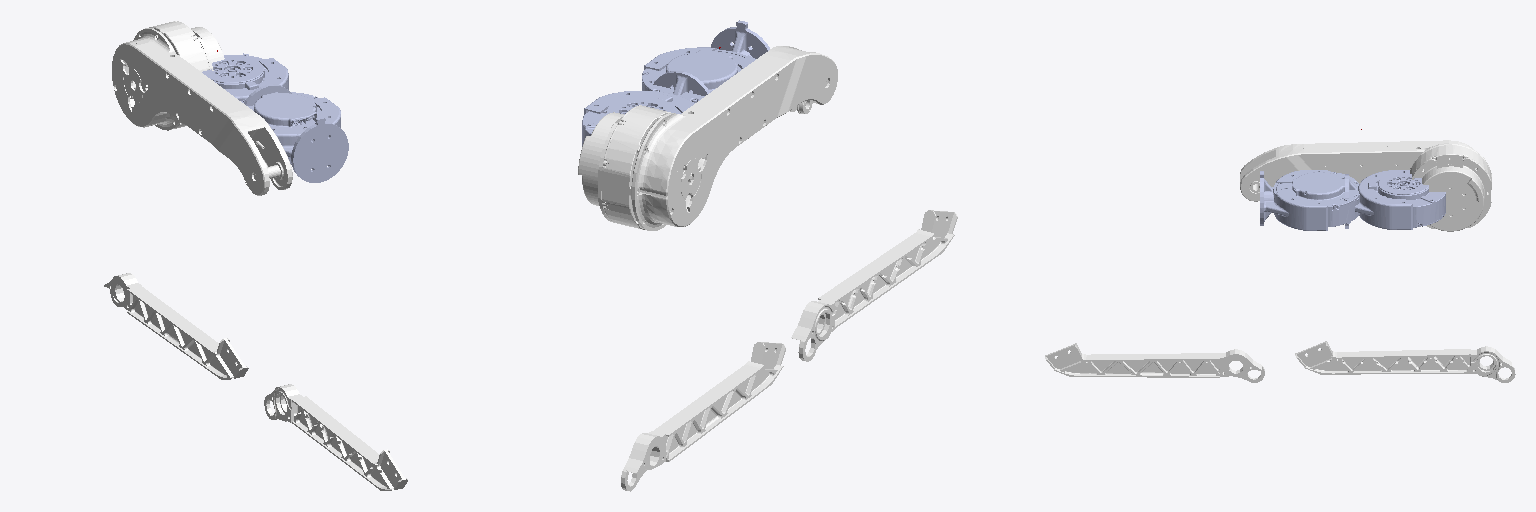
robot.urdf — duow:
<?xml version="1.0" ?>
<!-- This URDF was automatically created by SolidWorks to URDF Exporter! Originally created by Stephen Brawner (brawner@gmail.com) 
     Commit Version: 1.6.0-4-g7f85cfe  Build Version: 1.6.7995.38578
     For more information, please see http://wiki.ros.org/sw_urdf_exporter -->

<robot name="duow">

  <material name="black">
    <color rgba="0.0 0.0 0.0 1.0"/>
  </material>
  <material name="blue">
    <color rgba="0.0 0.0 0.8 1.0"/>
  </material>
  <material name="green">
    <color rgba="0.0 0.8 0.0 1.0"/>
  </material>
  <material name="grey">
    <color rgba="0.2 0.2 0.2 1.0"/>
  </material>
  <material name="silver">
    <color rgba="0.9137254901960784 0.9137254901960784 0.8470588235294118 1.0"/>
  </material>
  <material name="orange">
    <color rgba="1.0 0.4235294117647059 0.0392156862745098 1.0"/>
  </material>
  <material name="brown">
    <color rgba="0.8705882352941177 0.8117647058823529 0.7647058823529411 1.0"/>
  </material>
  <material name="red">
    <color rgba="0.8 0.0 0.0 1.0"/>
  </material>
  <material name="white">
    <color rgba="1.0 1.0 1.0 1.0"/>
  </material>

  <link name="base_link">
    <inertial>
      <origin xyz="0 0 0" rpy="0 0 0" />
      <mass value="0.0001" />
      <inertia ixx="0.0001" ixy="0" ixz="0" iyy="0.0001" iyz="0" izz="0.0001" />
    </inertial>
    <visual>
      <origin xyz="0 0 0" rpy="0 0 0" />
      <geometry>
        <box size="0.001 0.001 0.001"/>
      </geometry>
    </visual>
  </link>

  <link name="imu_link">
    <inertial>
      <origin xyz="0.0188 0 0.0095" rpy="0 0 0" />
      <mass value="0.123" />
      <inertia ixx="0.0001" ixy="0" ixz="0" iyy="0.0001" iyz="0" izz="0.0001" />
    </inertial>
    <visual>
      <origin rpy="0 0 0" xyz="0 0 0"/>
      <geometry>
        <box size="0.001 0.001 0.001"/>
      </geometry>
      <material name="red"/>
    </visual>
    <collision>
      <origin rpy="0 0 0" xyz="0 0 0"/>
      <geometry>
        <box size=".001 .001 .001"/>
      </geometry>
    </collision>
  </link>

  <joint name="imu_joint" type="fixed">
    <origin xyz="0.01153 0 0.068" rpy="0 0 0" />
    <parent link="base_link" />
    <child link="imu_link" />
    <axis xyz="0 0 0" />
  </joint>

  <link name="F_base_link">
    <inertial>
      <origin
        xyz="-0.0031 -0.0 0.0198"
        rpy="0 0 0" />
      <mass
        value="6.0608" />
      <inertia
        ixx="0.028"
        ixy="-0.0006"
        ixz="0.0013"
        iyy="0.0805"
        iyz="0.0001"
        izz="0.0866" />
    </inertial>
    <visual>
      <origin
        xyz="0 0 0"
        rpy="0 0 0" />
      <geometry>
        <mesh filename="../meshes/F_base_link.STL" />
      </geometry>
      <material name="grey"/>
    </visual>
    <collision>
      <origin rpy="0 0 0" xyz="0 0 0.022"/>
      <geometry>
        <box size="0.3505 0.198 0.152"/>
      </geometry>
    </collision>
  </link>

  <joint name="F_base_joint" type="fixed">
    <origin xyz="0 0 0" rpy="0 0 0" />
    <parent link="base_link" />
    <child link="F_base_link" />
    <axis xyz="0 0 0" />
  </joint>

  <link name="FL_hip">
    <inertial>
      <origin
        xyz="0.0315 0 -0.0546"
        rpy="0 0 0" />
      <mass
        value="0.755" />
      <inertia
        ixx="0.0009"
        ixy="0"
        ixz="0"
        iyy="0.0008"
        iyz="0"
        izz="0.0006" />
    </inertial>
    <visual>
      <origin
        xyz="0 0 0"
        rpy="0 0 0" />
      <geometry>
        <mesh
          filename="../meshes/FL_hip.STL" />
      </geometry>
      <material
        name="">
        <color
          rgba="0.79216 0.81961 0.93333 1" />
      </material>
    </visual>
  </link>

  <joint name="FL_hip_joint" type="revolute">
    <origin xyz="0.05525 0.048 0" rpy="1.5708 0 1.5708" />
    <parent link="F_base_link" />
    <child link="FL_hip" />
    <axis xyz="0 0 1" />
    <limit
      lower="-0.61"
      upper="0.36"
      effort="36"
      velocity="42" />
  </joint>

  <link name="FL_thigh">
    <inertial>
      <origin
        xyz="0.1906 0.0002 0.021"
        rpy="0 0 0" />
      <mass
        value="0.9375" />
      <inertia
        ixx="0.0007"
        ixy="0"
        ixz="0"
        iyy="0.0063"
        iyz="0"
        izz="0.0066" />
    </inertial>
    <visual>
      <origin
        xyz="0 0 0"
        rpy="0 0 0" />
      <geometry>
        <mesh
          filename="../meshes/FL_thigh.STL" />
      </geometry>
      <material
        name="">
        <color
          rgba="1 1 1 1" />
      </material>
    </visual>
    <!-- <collision>
      <origin rpy="0 0 0" xyz="0.08 0 0.026"/>
      <geometry>
        <box size="0.236 0.070 0.020"/>
      </geometry>
    </collision>
    <collision>
      <origin rpy="0 0 0" xyz="0.23 0 0.0175"/>
      <geometry>
        <cylinder length="0.051" radius="0.047"/>
      </geometry>
    </collision> -->
  </link>

  <joint name="FL_thigh_joint" type="revolute">
    <origin xyz="0.0525 0 -0.05525" rpy="-1.5708 0 -1.5708" />
    <parent link="FL_hip" />
    <child link="FL_thigh" />
    <axis xyz="0 0 1" />
    <limit
      lower="-3.14"
      upper="3.14"
      effort="36"
      velocity="42" />
  </joint>

  <link name="FL_calf">
    <inertial>
      <origin
        xyz="0.1793 0 0.0108"
        rpy="0 0 0" />
      <mass
        value="0.6055" />
      <inertia
        ixx="0.0003"
        ixy="0"
        ixz="0.0001"
        iyy="0.0038"
        iyz="0"
        izz="0.0039" />
    </inertial>
    <visual>
      <origin
        xyz="0 0 0"
        rpy="0 0 0" />
      <geometry>
        <mesh
          filename="../meshes/FL_calf.STL" />
      </geometry>
      <material
        name="">
        <color
          rgba="1 1 1 1" />
      </material>
    </visual>
    <collision>
      <origin rpy="0 0 0" xyz="0.075 0 0.015"/>
      <geometry>
        <box size="0.218 0.060 0.015"/>
      </geometry>
    </collision>
    <collision>
      <origin rpy="0 0 0" xyz="0.218 0 0.0095"/>
      <geometry>
        <cylinder length="0.0435" radius="0.042"/>
      </geometry>
    </collision>
  </link>

  <joint name="FL_calf_joint" type="revolute">
    <origin xyz="0.23 0 0.0415" rpy="0 0 0" />
    <parent link="FL_thigh" />
    <child link="FL_calf" />
    <axis xyz="0 0 1" />
    <limit
      lower="-2.79"
      upper="2.79"
      effort="36"
      velocity="42" />
  </joint>

  <link name="FL_foot">
    <inertial>
      <origin
        xyz="0 0 0.0227"
        rpy="0 0 0" />
      <mass
        value="0.5134" />
      <inertia
        ixx="0.0013"
        ixy="0"
        ixz="0"
        iyy="0.0013"
        iyz="0"
        izz="0.0024" />
    </inertial>
    <visual>
      <origin
        xyz="0 0 0"
        rpy="0 0 0" />
      <geometry>
        <mesh
          filename="../meshes/FL_foot.STL" />
      </geometry>
      <material
        name="">
        <color
          rgba="0.86667 0.9098 1 1" />
      </material>
    </visual>
    <collision>
      <origin rpy="0 0 0" xyz="0 0 0.0235"/>
      <geometry>
        <cylinder length="0.035" radius="0.1"/>
      </geometry>
    </collision>
  </link>

  <joint name="FL_foot_joint" type="revolute">
    <origin xyz="0.22 0 0.0315" rpy="0 0 0" />
    <parent link="FL_calf" />
    <child link="FL_foot" />
    <axis xyz="0 0 1" />
    <limit
      lower="-1000000.0"
      upper="1000000.0"
      effort="17"
      velocity="42" />
  </joint>

  <transmission name="FL_hip_tran">
    <type>transmission_interface/SimpleTransmission</type>
    <joint name="FL_hip_joint">
      <hardwareInterface>hardware_interface/EffortJointInterface</hardwareInterface>
    </joint>
    <actuator name="FL_hip_motor">
      <hardwareInterface>hardware_interface/EffortJointInterface</hardwareInterface>
      <mechanicalReduction>1</mechanicalReduction>
    </actuator>
  </transmission>
  <transmission name="FL_thigh_tran">
    <type>transmission_interface/SimpleTransmission</type>
    <joint name="FL_thigh_joint">
      <hardwareInterface>hardware_interface/EffortJointInterface</hardwareInterface>
    </joint>
    <actuator name="FL_thigh_motor">
      <hardwareInterface>hardware_interface/EffortJointInterface</hardwareInterface>
      <mechanicalReduction>1</mechanicalReduction>
    </actuator>
  </transmission>
  <transmission name="FL_calf_tran">
    <type>transmission_interface/SimpleTransmission</type>
    <joint name="FL_calf_joint">
      <hardwareInterface>hardware_interface/EffortJointInterface</hardwareInterface>
    </joint>
    <actuator name="FL_calf_motor">
      <hardwareInterface>hardware_interface/EffortJointInterface</hardwareInterface>
      <mechanicalReduction>1</mechanicalReduction>
    </actuator>
  </transmission>
  <transmission name="FL_foot_tran">
    <type>transmission_interface/SimpleTransmission</type>
    <joint name="FL_foot_joint">
      <hardwareInterface>hardware_interface/EffortJointInterface</hardwareInterface>
    </joint>
    <actuator name="FL_foot_motor">
      <hardwareInterface>hardware_interface/EffortJointInterface</hardwareInterface>
      <mechanicalReduction>1</mechanicalReduction>
    </actuator>
  </transmission>

  <link name="FR_hip">
    <inertial>
      <origin
        xyz="-0.0315 0 -0.0546"
        rpy="0 0 0" />
      <mass
        value="0.755" />
      <inertia
        ixx="0.0009"
        ixy="0"
        ixz="0"
        iyy="0.0008"
        iyz="0"
        izz="0.0006" />
    </inertial>
    <visual>
      <origin
        xyz="0 0 0"
        rpy="0 0 0" />
      <geometry>
        <mesh
          filename="../meshes/FR_hip.STL" />
      </geometry>
      <material
        name="">
        <color
          rgba="0.79216 0.81961 0.93333 1" />
      </material>
    </visual>
  </link>

  <joint name="FR_hip_joint" type="revolute">
    <origin xyz="0.05525 -0.048 0" rpy="1.5708 0 1.5708" />
    <parent link="F_base_link" />
    <child link="FR_hip" />
    <axis xyz="0 0 1" />
    <limit
      lower="-0.36"
      upper="0.61"
      effort="36"
      velocity="42" />
  </joint>

  <link name="FR_thigh">
    <inertial>
      <origin
        xyz="0.1906 0.0001 -0.021"
        rpy="0 0 0" />
      <mass
        value="0.9375" />
      <inertia
        ixx="0.0007"
        ixy="0"
        ixz="0"
        iyy="0.0063"
        iyz="0"
        izz="0.0066" />
    </inertial>
    <visual>
      <origin
        xyz="0 0 0"
        rpy="0 0 0" />
      <geometry>
        <mesh
          filename="../meshes/FR_thigh.STL" />
      </geometry>
      <material
        name="">
        <color
          rgba="0.86667 0.9098 1 1" />
      </material>
    </visual>
    <!-- <collision>
      <origin rpy="0 0 0" xyz="0.08 0 -0.026"/>
      <geometry>
        <box size="0.236 0.070 0.020"/>
      </geometry>
    </collision>
    <collision>
      <origin rpy="0 0 0" xyz="0.23 0 -0.0175"/>
      <geometry>
        <cylinder length="0.051" radius="0.047"/>
      </geometry>
    </collision> -->
  </link>

  <joint name="FR_thigh_joint" type="revolute">
    <origin xyz="-0.0525 0 -0.05525" rpy="-1.5708 0 -1.5708" />
    <parent link="FR_hip" />
    <child link="FR_thigh" />
    <axis xyz="0 0 1" />
    <limit
      lower="-3.14"
      upper="3.14"
      effort="36"
      velocity="42" />
  </joint>

  <link name="FR_calf">
    <inertial>
      <origin
        xyz="0.1793 0 -0.0108"
        rpy="0 0 0" />
      <mass
        value="0.6055" />
      <inertia
        ixx="0.0003"
        ixy="0"
        ixz="-0.0001"
        iyy="0.0038"
        iyz="0"
        izz="0.0039" />
    </inertial>
    <visual>
      <origin
        xyz="0 0 0"
        rpy="0 0 0" />
      <geometry>
        <mesh
          filename="../meshes/FR_calf.STL" />
      </geometry>
      <material
        name="">
        <color
          rgba="1 1 1 1" />
      </material>
    </visual>
    <collision>
      <origin rpy="0 0 0" xyz="0.075 0 -0.015"/>
      <geometry>
        <box size="0.218 0.060 0.015"/>
      </geometry>
    </collision>
    <collision>
      <origin rpy="0 0 0" xyz="0.218 0 -0.0095"/>
      <geometry>
        <cylinder length="0.0435" radius="0.042"/>
      </geometry>
    </collision>
  </link>

  <joint name="FR_calf_joint" type="revolute">
    <origin xyz="0.23 0 -0.0415" rpy="0 0 0" />
    <parent link="FR_thigh" />
    <child link="FR_calf" />
    <axis xyz="0 0 1" />
    <limit
      lower="-2.79"
      upper="2.79"
      effort="36"
      velocity="42" />
  </joint>

  <link name="FR_foot">
    <inertial>
      <origin
        xyz="0 0 -0.0227"
        rpy="0 0 0" />
      <mass
        value="0.5134" />
      <inertia
        ixx="0.0013"
        ixy="0"
        ixz="0"
        iyy="0.0013"
        iyz="0"
        izz="0.0024" />
    </inertial>
    <visual>
      <origin
        xyz="0 0 0"
        rpy="0 0 0" />
      <geometry>
        <mesh
          filename="../meshes/FR_foot.STL" />
      </geometry>
      <material
        name="">
        <color
          rgba="0.79216 0.81961 0.93333 1" />
      </material>
    </visual>
    <collision>
      <origin rpy="0 0 0" xyz="0 0 -0.0235"/>
      <geometry>
        <cylinder length="0.035" radius="0.1"/>
      </geometry>
    </collision>
  </link>

  <joint name="FR_foot_joint" type="revolute">
    <origin xyz="0.22 0 -0.0315" rpy="0 0 0" />
    <parent link="FR_calf" />
    <child link="FR_foot" />
    <axis xyz="0 0 1" />
    <limit 
      lower="-1000000.0"
      upper="1000000.0"
      effort="17"
      velocity="42" />
  </joint>

  <transmission name="FR_hip_tran">
    <type>transmission_interface/SimpleTransmission</type>
    <joint name="FR_hip_joint">
      <hardwareInterface>hardware_interface/EffortJointInterface</hardwareInterface>
    </joint>
    <actuator name="FR_hip_motor">
      <hardwareInterface>hardware_interface/EffortJointInterface</hardwareInterface>
      <mechanicalReduction>1</mechanicalReduction>
    </actuator>
  </transmission>
  <transmission name="FR_thigh_tran">
    <type>transmission_interface/SimpleTransmission</type>
    <joint name="FR_thigh_joint">
      <hardwareInterface>hardware_interface/EffortJointInterface</hardwareInterface>
    </joint>
    <actuator name="FR_thigh_motor">
      <hardwareInterface>hardware_interface/EffortJointInterface</hardwareInterface>
      <mechanicalReduction>1</mechanicalReduction>
    </actuator>
  </transmission>
  <transmission name="FR_calf_tran">
    <type>transmission_interface/SimpleTransmission</type>
    <joint name="FR_calf_joint">
      <hardwareInterface>hardware_interface/EffortJointInterface</hardwareInterface>
    </joint>
    <actuator name="FR_calf_motor">
      <hardwareInterface>hardware_interface/EffortJointInterface</hardwareInterface>
      <mechanicalReduction>1</mechanicalReduction>
    </actuator>
  </transmission>
  <transmission name="FR_foot_tran">
    <type>transmission_interface/SimpleTransmission</type>
    <joint name="FR_foot_joint">
      <hardwareInterface>hardware_interface/EffortJointInterface</hardwareInterface>
    </joint>
    <actuator name="FR_foot_motor">
      <hardwareInterface>hardware_interface/EffortJointInterface</hardwareInterface>
      <mechanicalReduction>1</mechanicalReduction>
    </actuator>
  </transmission>

</robot>

--- Render facts (derived) ---
3 views of the same robot in one strip: view 1: azimuth 30°, elevation 25°; view 2: azimuth 150°, elevation 25°; view 3: azimuth 270°, elevation 25° (orthographic).
Model duow with 11 links and 10 joints (8 revolute, 2 fixed), rooted at base_link, posed all joints at 0.
Visible links, largest first — view 1: FL_thigh, FR_hip, FR_calf, FL_calf, FL_hip; view 2: FL_thigh, FR_calf, FL_calf, FR_hip, FL_hip; view 3: FL_thigh, FL_calf, FR_calf, FR_hip, FL_hip.
Boxes of the visible links, <box> form: FL_thigh: <box>112,21,292,195</box>; FR_hip: <box>241,92,348,182</box>; FR_calf: <box>264,384,407,490</box>; FL_calf: <box>104,273,248,379</box>; FL_hip: <box>202,53,291,105</box>; FL_thigh: <box>578,46,837,230</box>; FR_calf: <box>791,210,957,361</box>; FL_calf: <box>621,342,785,491</box>; FR_hip: <box>642,20,769,102</box>; FL_hip: <box>582,71,709,145</box>; FL_thigh: <box>1240,140,1491,231</box>; FL_calf: <box>1295,341,1515,382</box>; FR_calf: <box>1045,343,1264,382</box>; FR_hip: <box>1260,170,1359,230</box>; FL_hip: <box>1345,170,1445,229</box>.
Bounding box of the posed robot: 0.1256 × 0.534 × 0.3222 m (x, y, z).
5 mesh visuals loaded from 9 distinct referenced files (5 binary STL); not drawn: 4 (reference not matched to a file when rendering).
